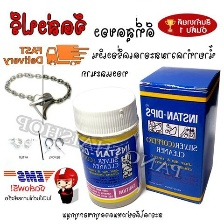book: (137, 62, 224, 208)
cleaning_solution: (71, 85, 145, 210)
